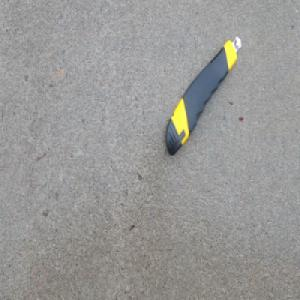Cutter: (162, 34, 241, 156)
